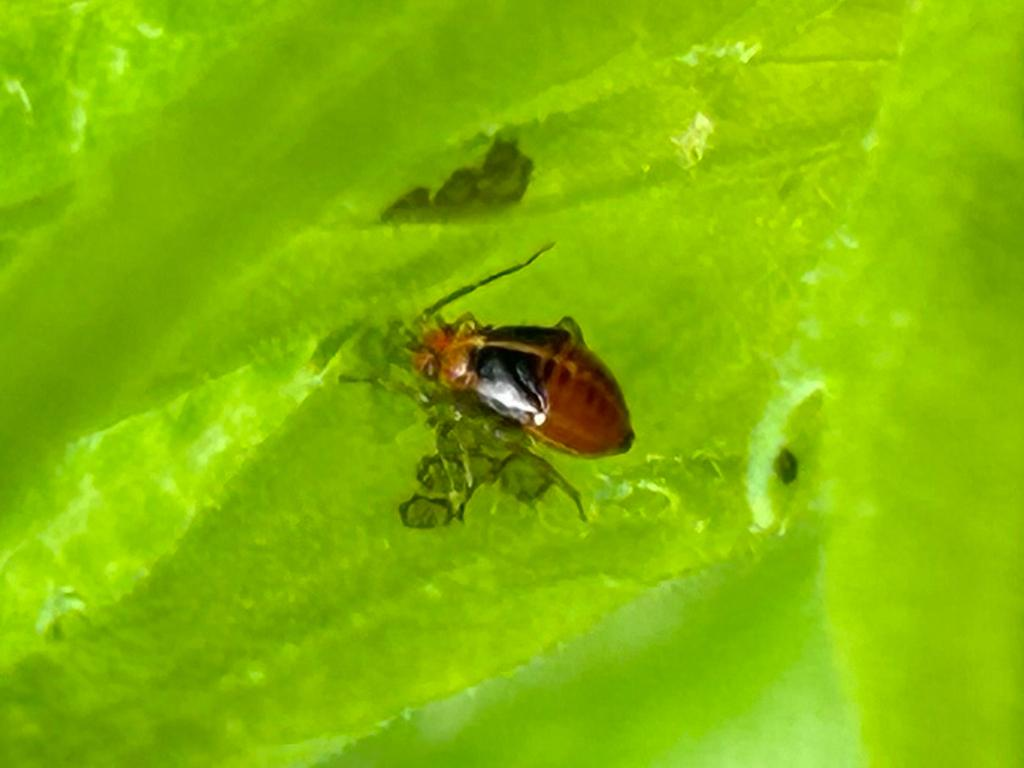plant_bugs: (323, 209, 671, 547)
